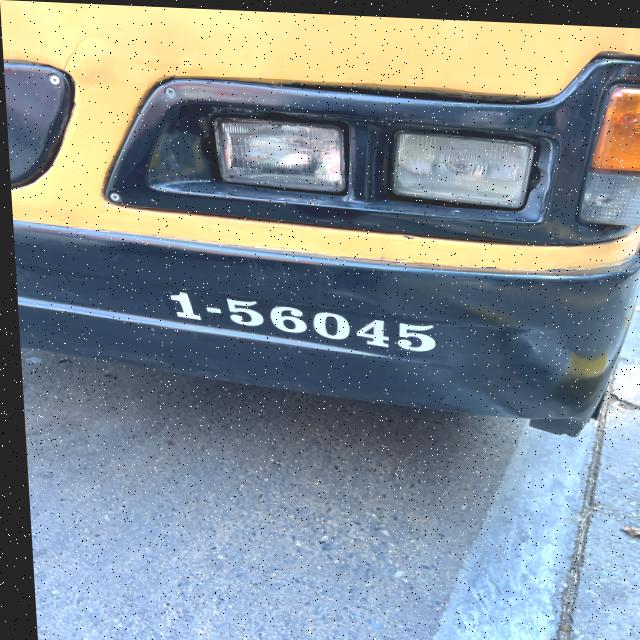BMTA-bus: (0, 0, 640, 435)
